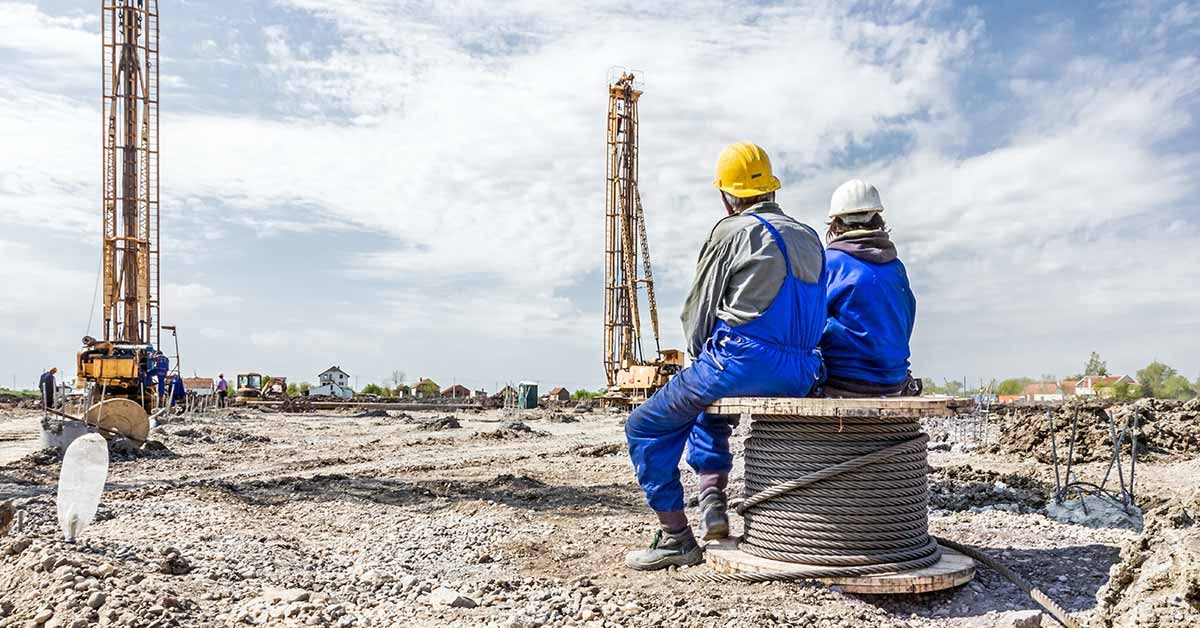With Helmet: (710, 139, 791, 215), (826, 176, 890, 246)
